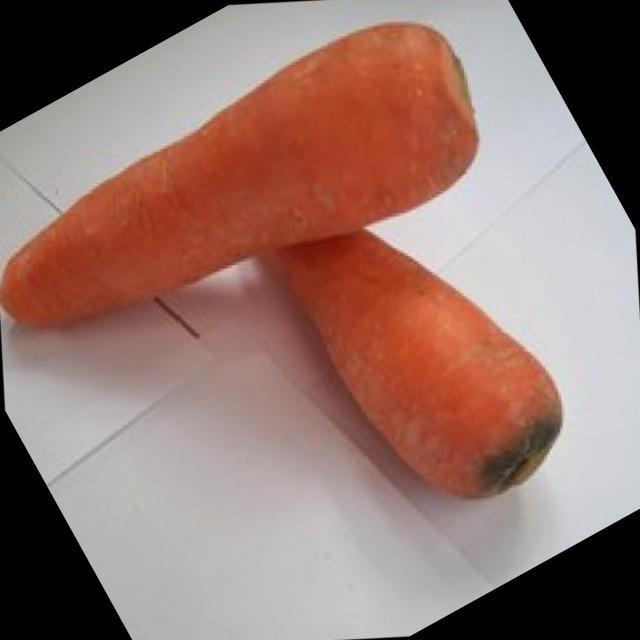carrot: (0, 0, 639, 532), (159, 103, 640, 626)
